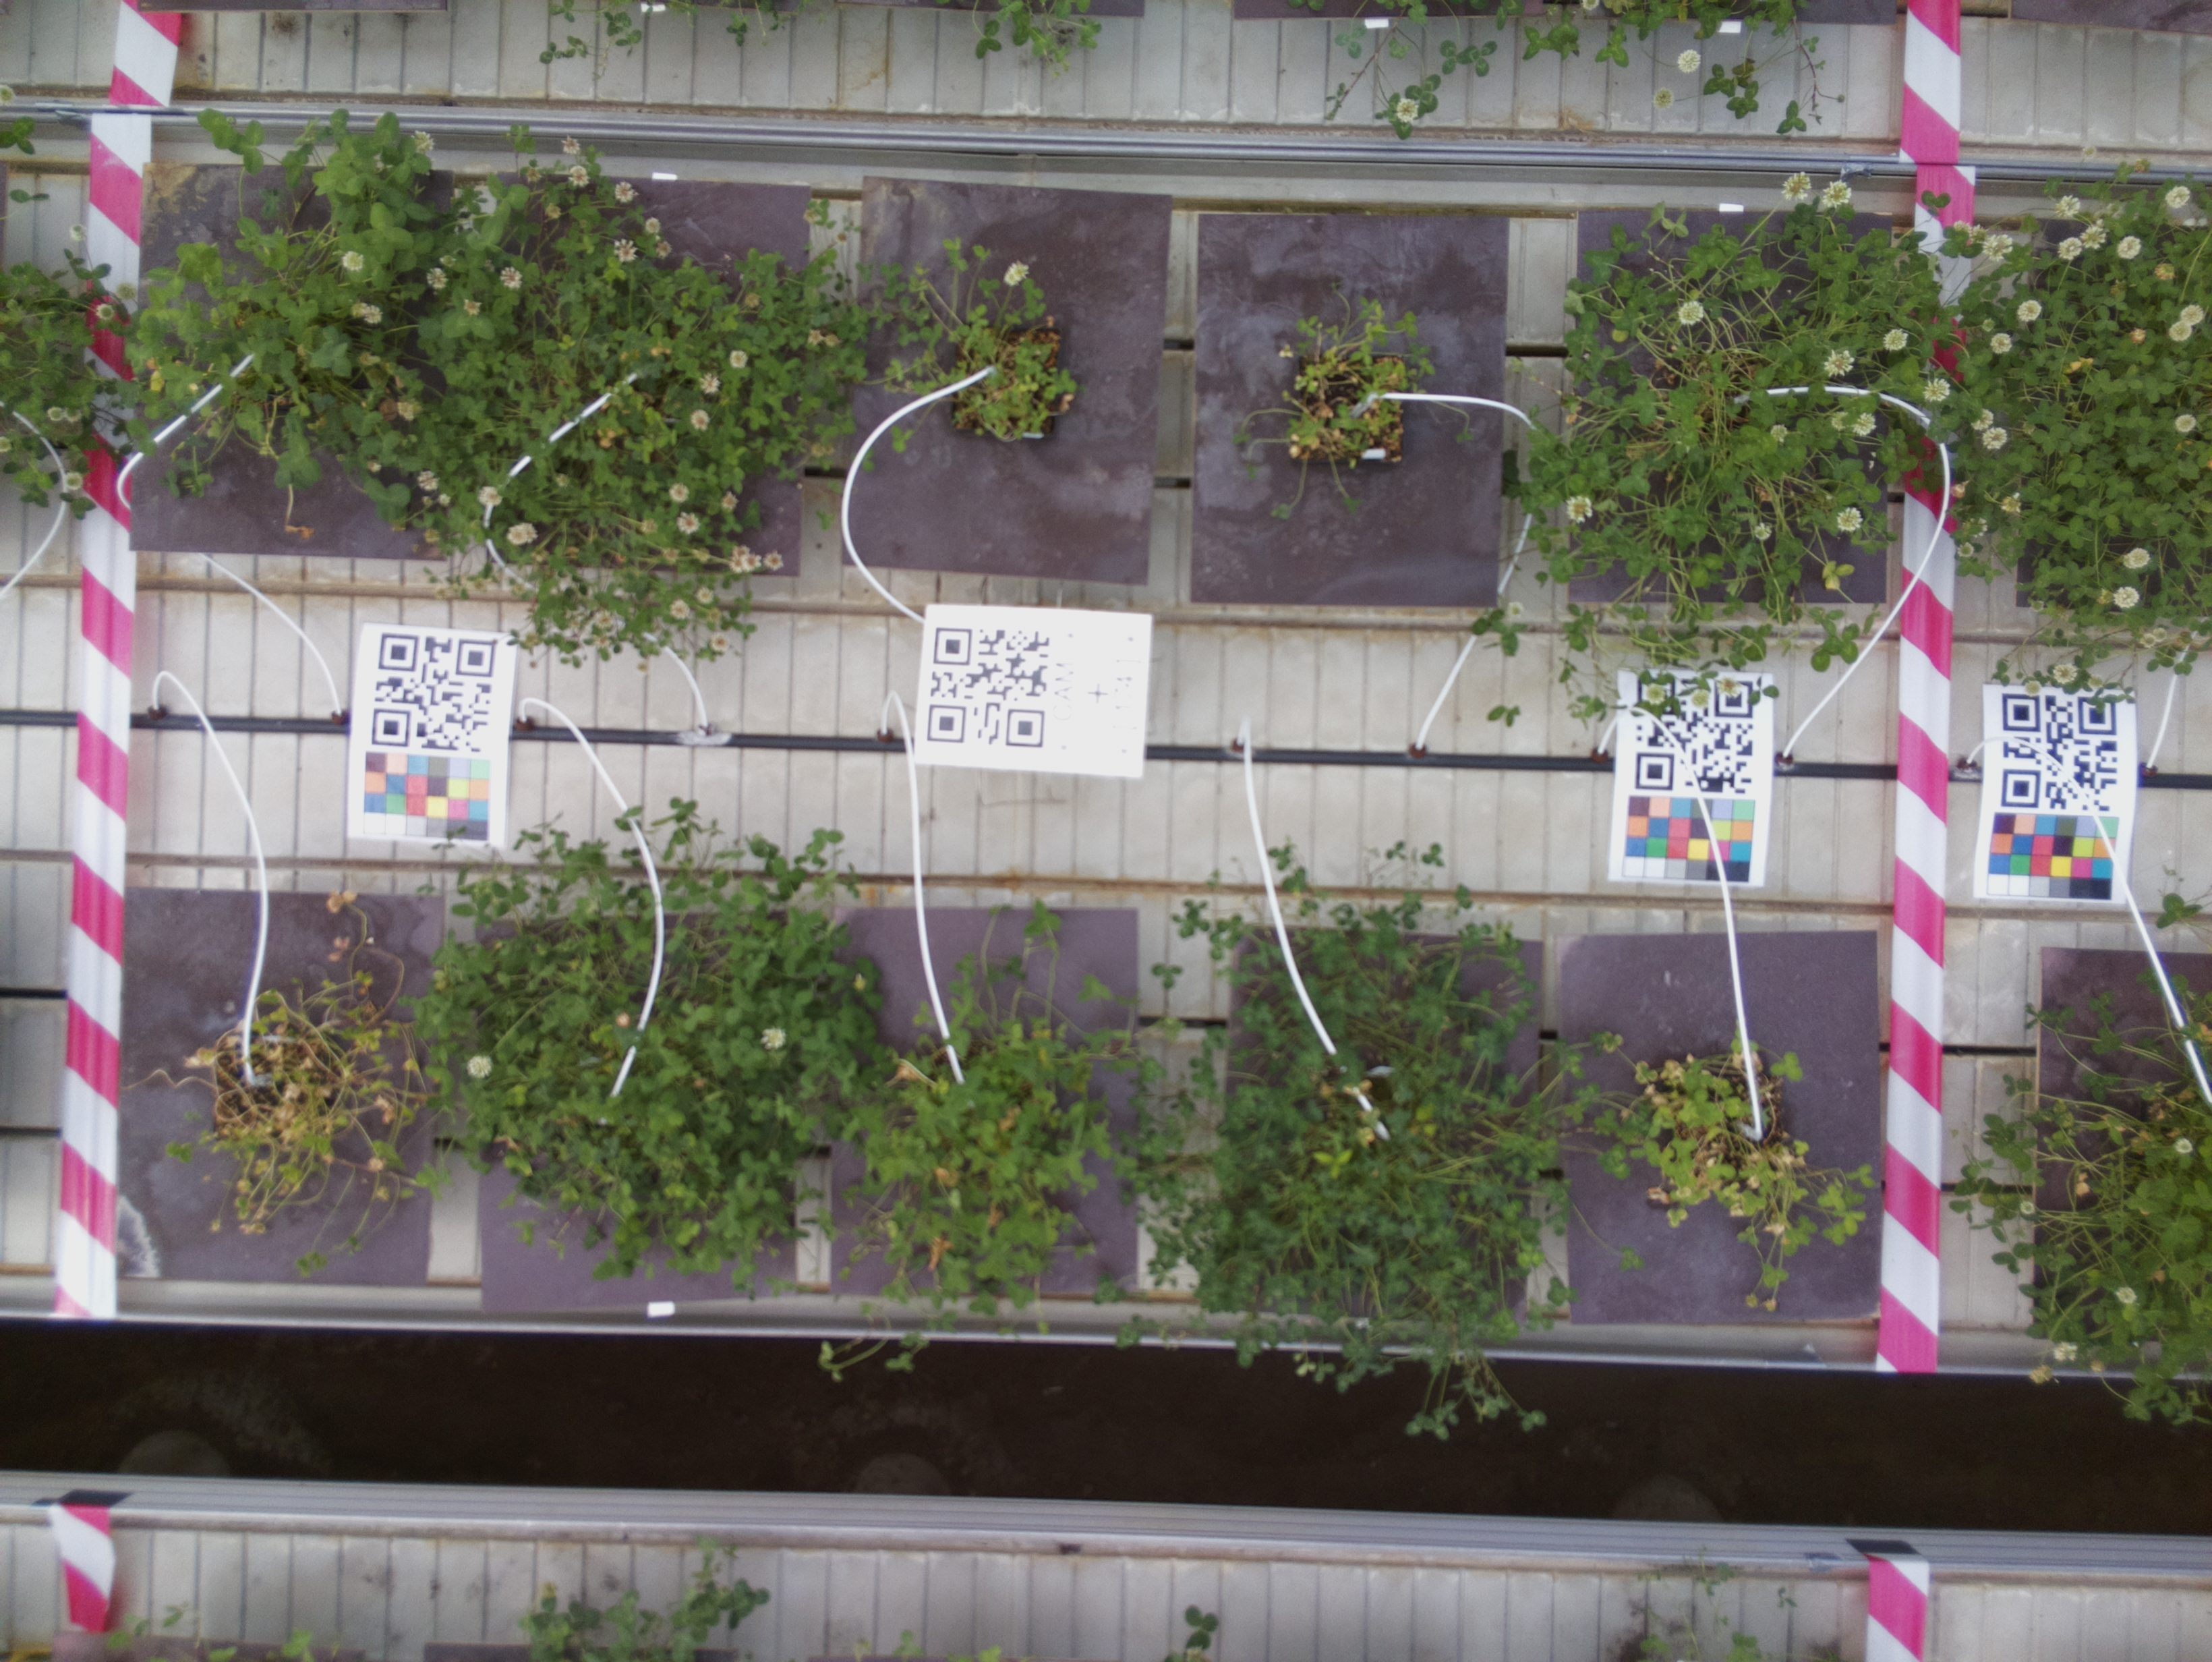POT: (501, 169, 814, 583), (1557, 931, 1886, 1318), (140, 159, 452, 564), (475, 920, 796, 1301), (859, 176, 1156, 587), (1578, 208, 1882, 604), (1194, 211, 1498, 604), (1231, 929, 1533, 1323), (127, 889, 426, 1280), (833, 911, 1138, 1288)
QRCODE: (917, 604, 1156, 779)
QRCOLOR: (349, 627, 517, 850), (1975, 681, 2139, 906), (1618, 670, 1774, 889)
